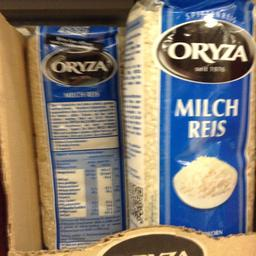rice: (120, 0, 255, 232), (22, 23, 124, 248)
